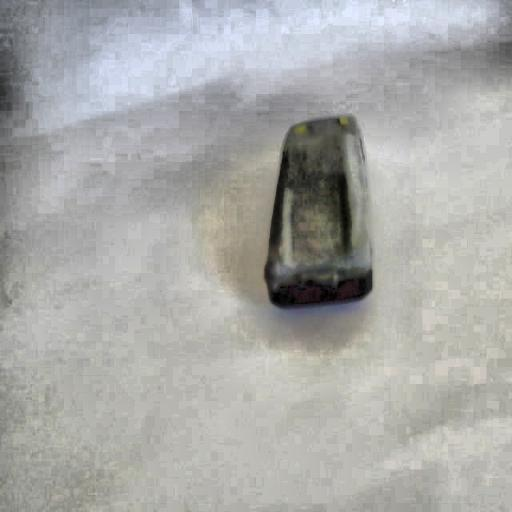normal_car: (262, 113, 376, 311)
